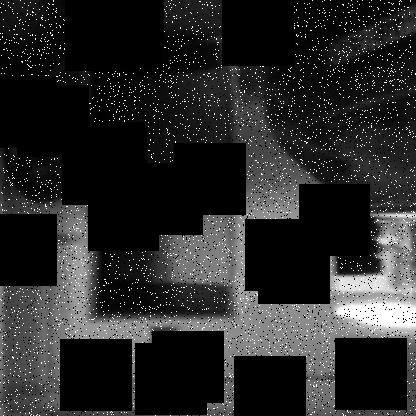Porte: (84, 33, 236, 325)
